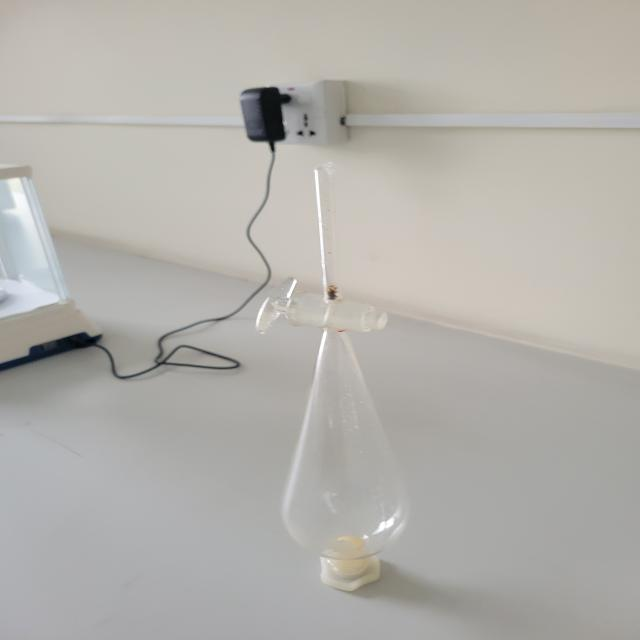Separating_Funnel: (242, 135, 436, 606)
